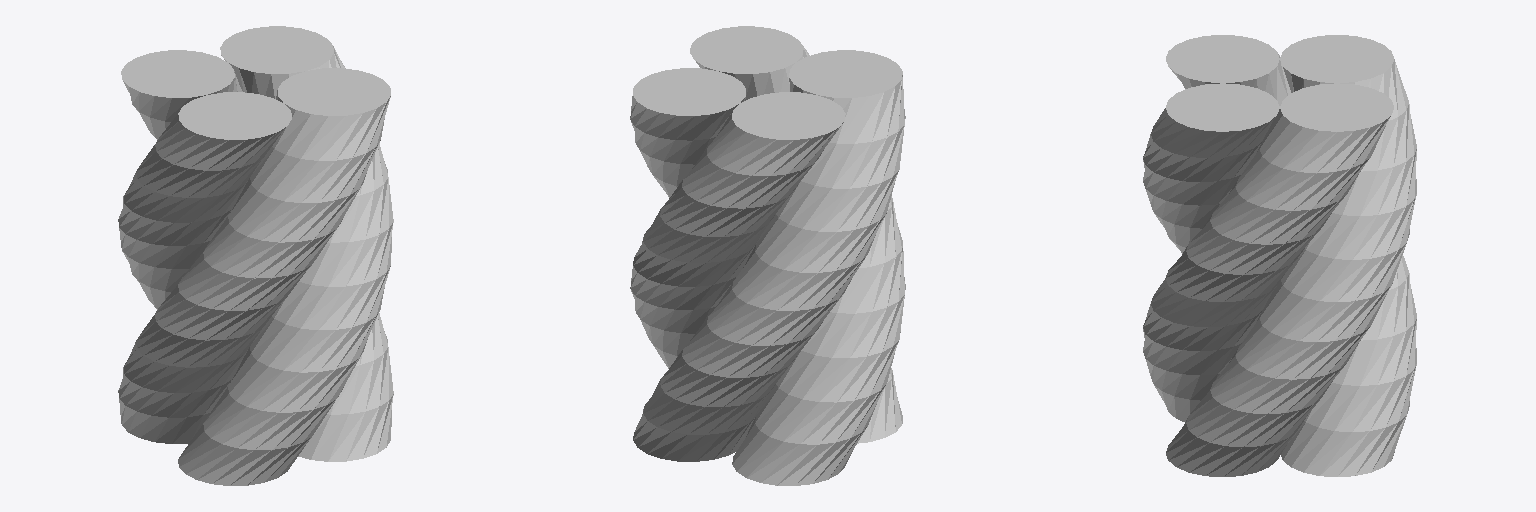
File: ropeTest.obj
3 renders of one model, left to right at view 1: azimuth 30°, elevation 25°; view 2: azimuth 150°, elevation 25°; view 3: azimuth 270°, elevation 25°, orthographic.
Visible parts, largest first — view 1: pCylinder5; view 2: pCylinder5; view 3: pCylinder5.
Boxes of the visible parts, x1,y1,x2,y2 form: pCylinder5: [118, 26, 393, 485]; pCylinder5: [630, 26, 905, 485]; pCylinder5: [1143, 35, 1416, 476].
Size of the model in its own units: 0.2398 by 0.3335 by 0.2397.